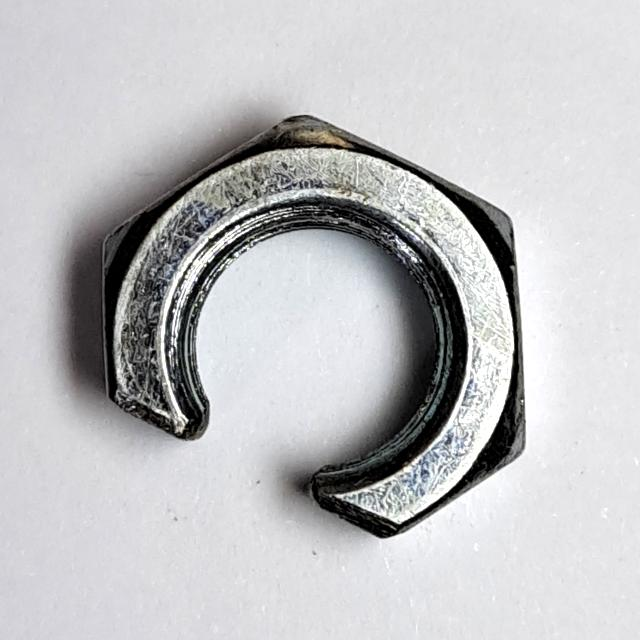Fracture: (83, 98, 541, 554)
